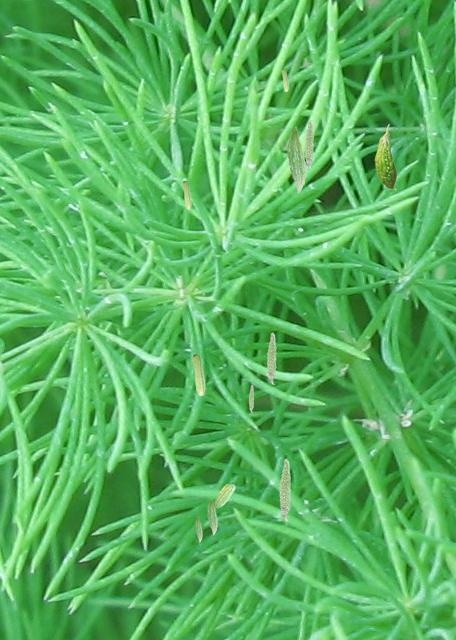ampalaya: (374, 123, 397, 190), (287, 126, 306, 194), (279, 458, 291, 521), (191, 353, 206, 396), (266, 332, 277, 385), (214, 483, 235, 508), (304, 119, 314, 169), (207, 498, 218, 536), (182, 180, 192, 209), (195, 516, 203, 543), (281, 68, 289, 92), (248, 384, 254, 413)
